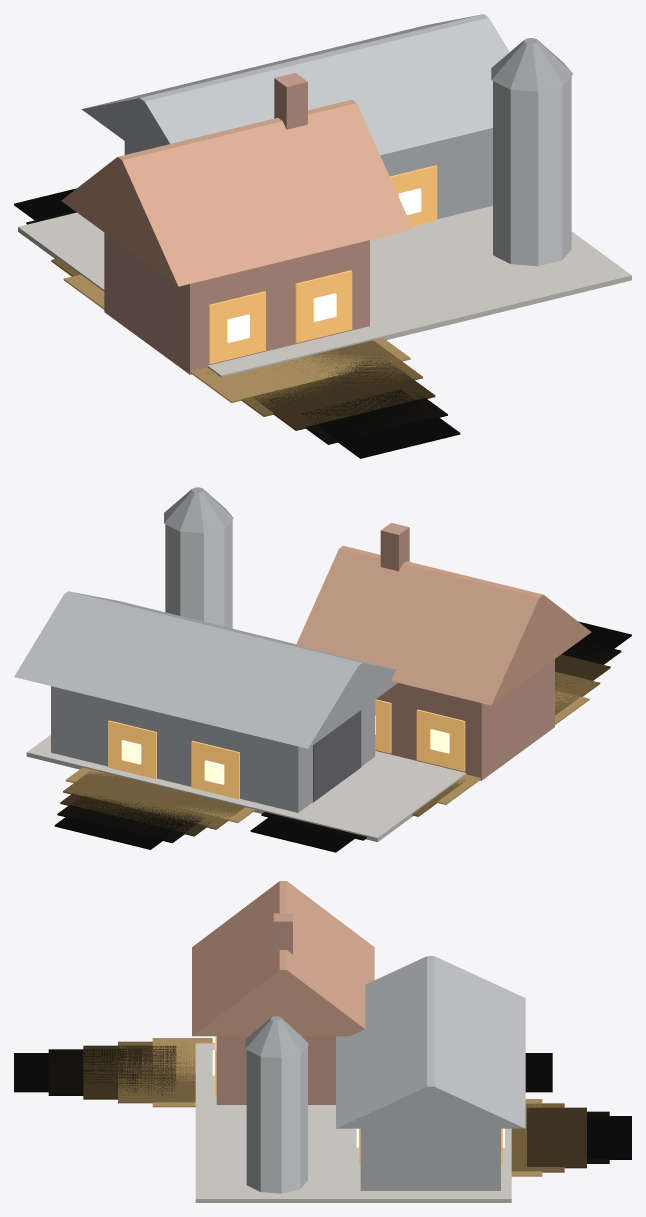
Rendered from plc_arable_farm.glb.
3 views of the same model, one above another, from view 1: azimuth 30°, elevation 25°; view 2: azimuth 150°, elevation 25°; view 3: azimuth 270°, elevation 25° (orthographic). The views are drawn at different scales.
Visible parts, largest first — view 1: plc_arable_farm; view 2: plc_arable_farm; view 3: plc_arable_farm.
Part boxes in pixels (bbox=[...]): plc_arable_farm: bbox=[14, 14, 631, 458]; plc_arable_farm: bbox=[14, 487, 631, 852]; plc_arable_farm: bbox=[14, 881, 631, 1202].
Bounding box in the file's own units: 2.01 × 0.9486 × 2.99.
